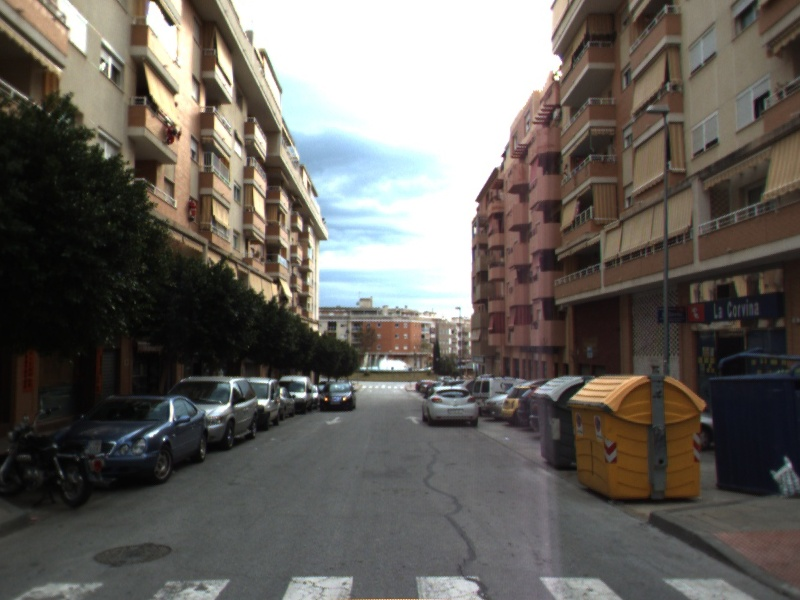STRAIGHT: (403, 413, 423, 426)
